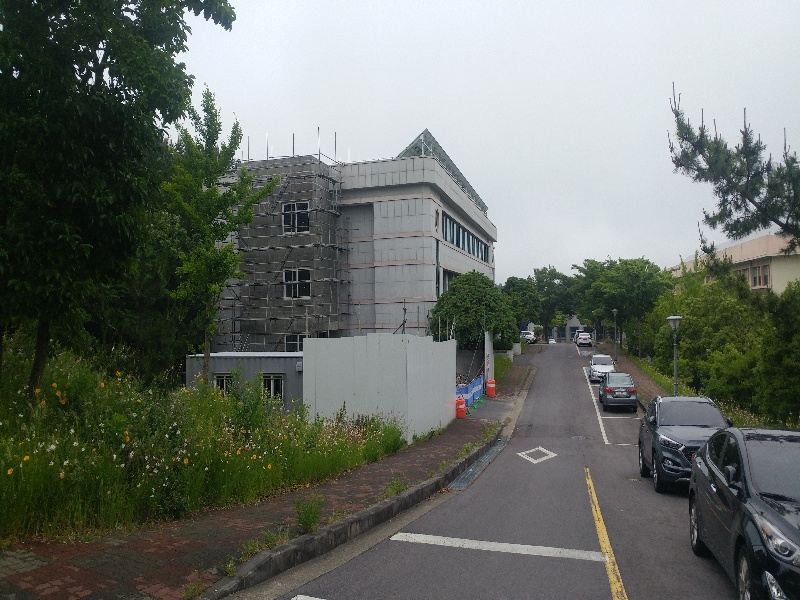College Of Education: (655, 223, 797, 313)
Information Telecommunication Center: (240, 140, 492, 327), (352, 152, 478, 326)
